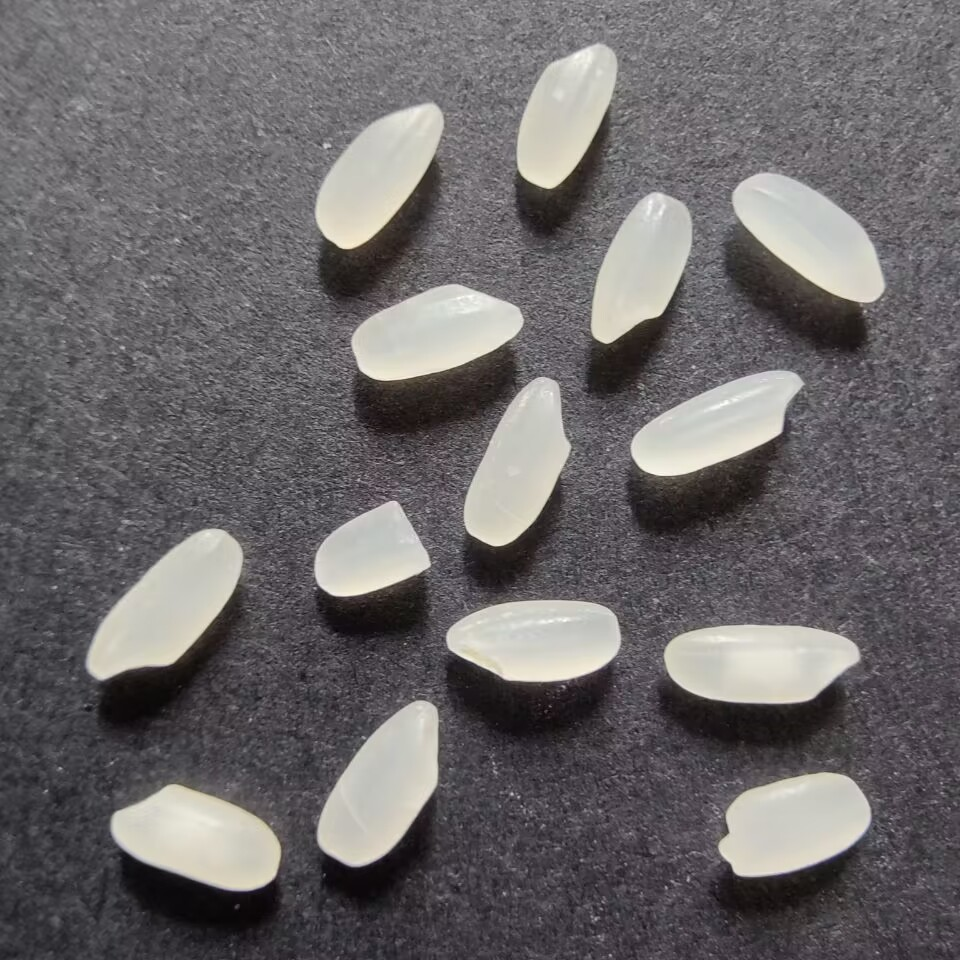broken: (311, 494, 437, 601)
rice: (82, 523, 247, 688), (311, 694, 445, 869), (99, 778, 289, 901), (728, 168, 890, 307), (454, 370, 577, 552), (312, 95, 447, 256), (623, 368, 807, 478), (715, 768, 876, 883), (346, 282, 526, 383), (439, 593, 628, 688), (583, 190, 695, 349), (664, 622, 869, 706), (512, 37, 621, 193)
